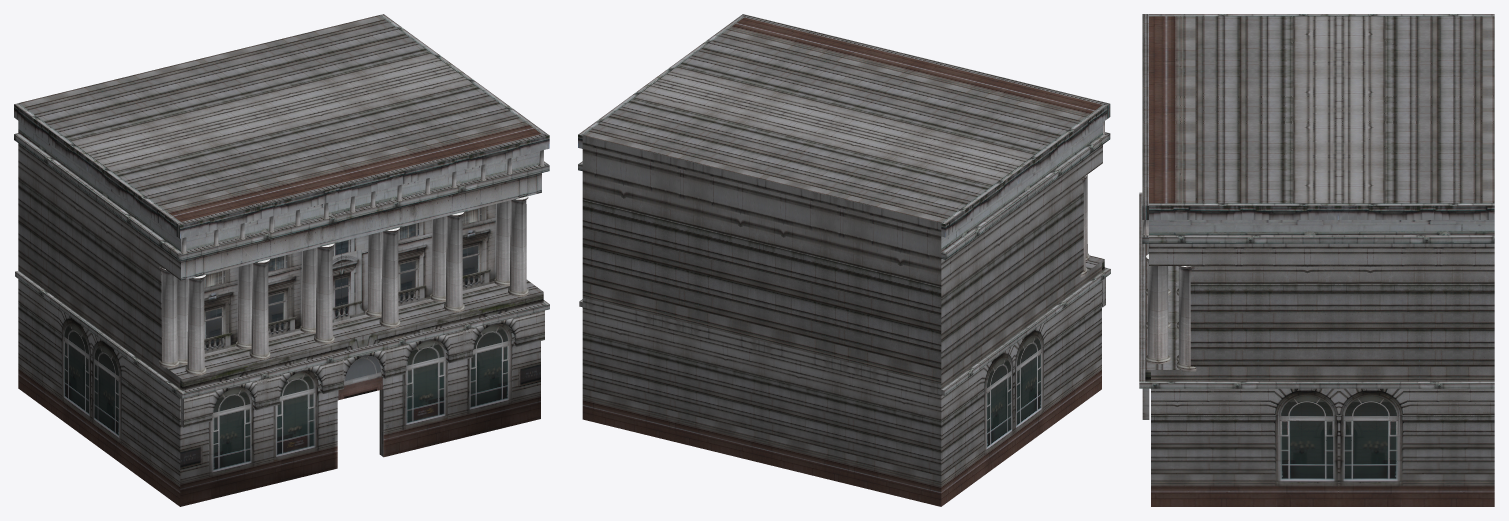
Rendered from building14.obj.
3 renders of one model, left to right at view 1: azimuth 30°, elevation 25°; view 2: azimuth 150°, elevation 25°; view 3: azimuth 270°, elevation 25°, orthographic. The views are drawn at different scales.
Parts seen in each view (by area): view 1: building14; view 2: building14; view 3: building14.
Part boxes in pixels (bbox=[...]): building14: bbox=[14, 14, 549, 506]; building14: bbox=[578, 14, 1110, 506]; building14: bbox=[1139, 14, 1494, 506].
Bounding box in the file's own units: 631 × 465 × 494.
1 material, 1 textured.
